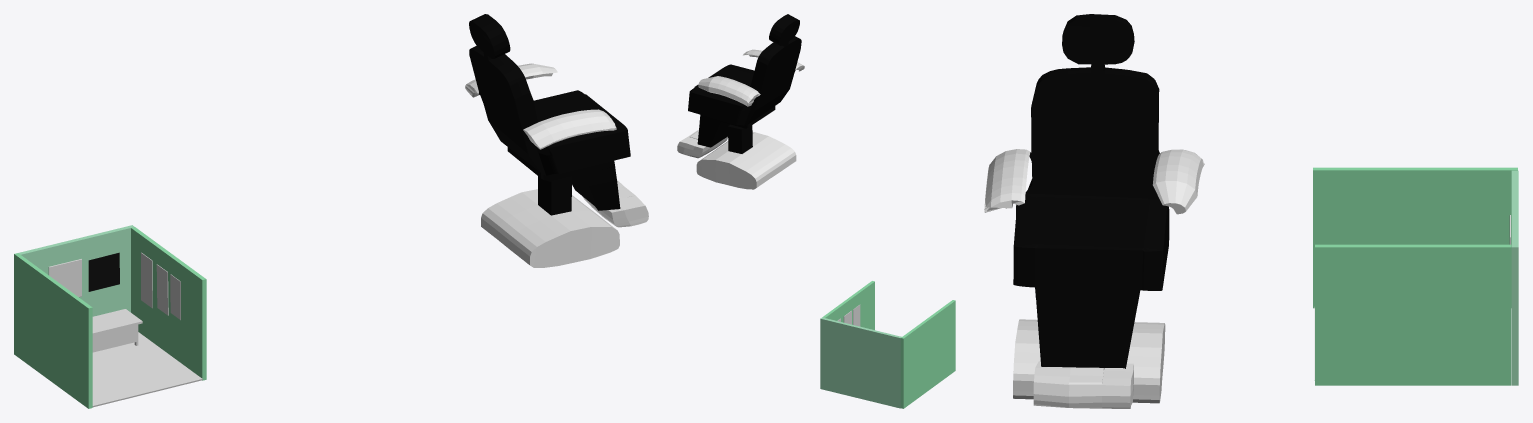
Rendered from sala.fbx.
3 renders of one model, left to right at view 1: azimuth 30°, elevation 25°; view 2: azimuth 150°, elevation 25°; view 3: azimuth 270°, elevation 25°, orthographic. The views are drawn at different scales.
Parts seen in each view (by area): view 1: Cube, Cube.001; view 2: Cube.001, Cube; view 3: Cube.001, Cube.
Boxes of the visible parts, box(x1,y1,x2,y2) form: Cube: box(14, 225, 206, 408); Cube.001: box(465, 14, 648, 267); Cube.001: box(677, 14, 804, 189); Cube: box(820, 281, 955, 408); Cube.001: box(984, 14, 1204, 408); Cube: box(1313, 167, 1518, 385).
Bounding box in the file's own units: 1506 × 1141 × 1091.
